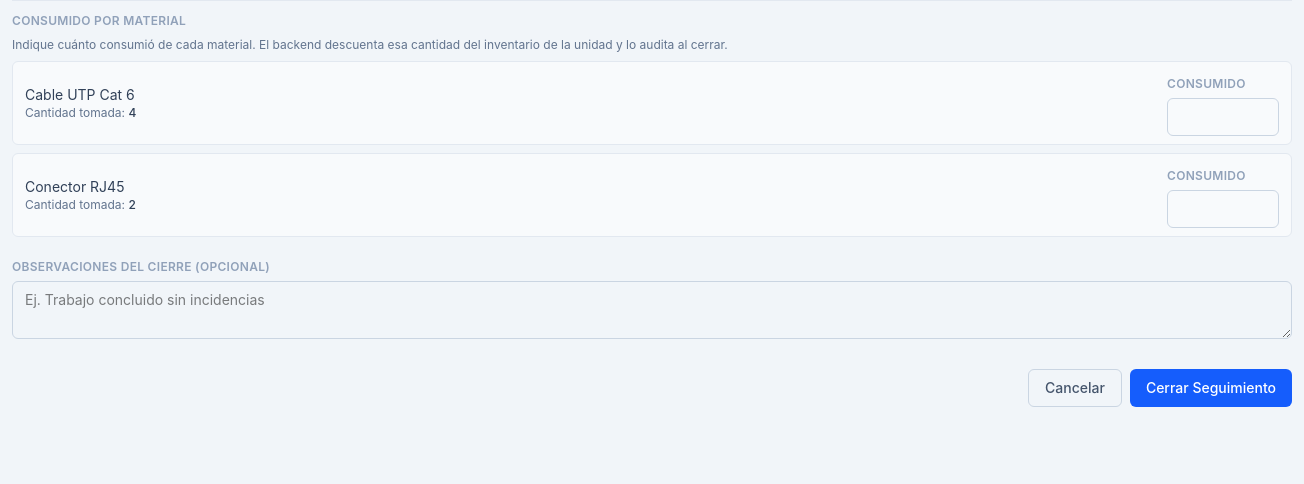
Test case: SeguimientoCierreForm validación › RF-6: un consumido con 4 decimales bloquea el envío con el mensaje nuevo
Type "1.2345" into the number field labelled "Consumido" in the row of "Cable UTP Cat 6" at (1223, 117), box [1167, 98, 1279, 136]
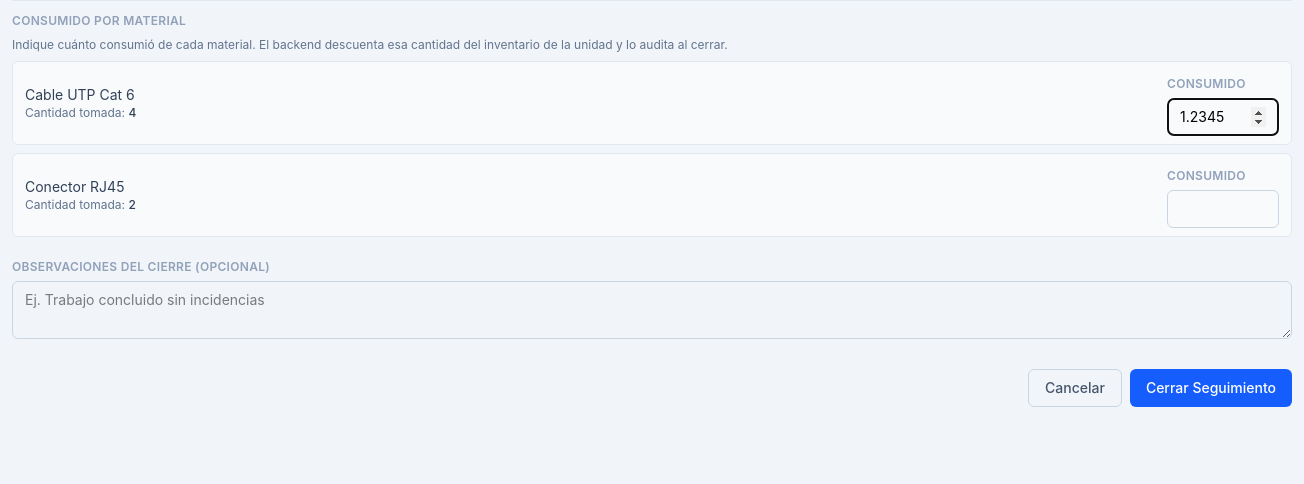
Type "1" into the number field labelled "Consumido" in the row of "Conector RJ45" at (1223, 209), box [1167, 190, 1279, 228]
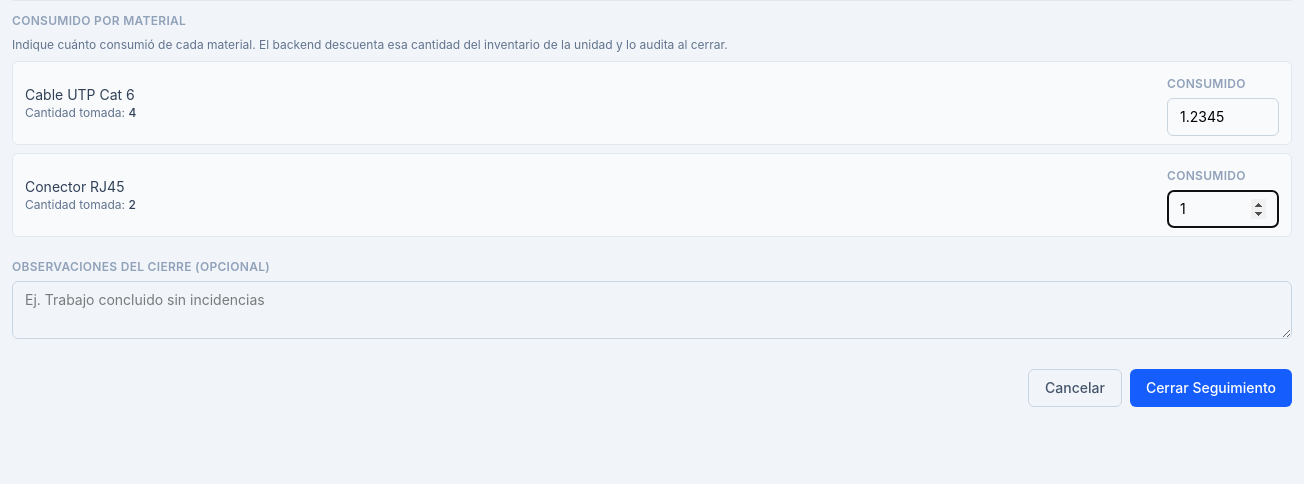
Click the button "Cerrar Seguimiento" at (1211, 388), box [1130, 369, 1292, 407]
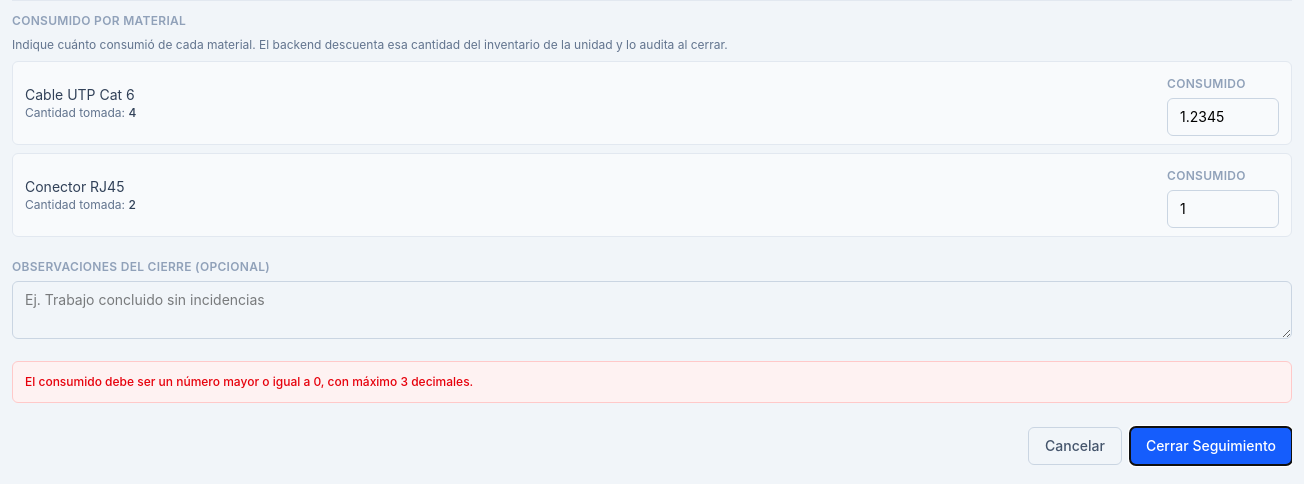
expect the text "El consumido debe ser un número mayor o igual a 0, con máximo 3 decimales." is shown: met, box [25, 374, 473, 389]
